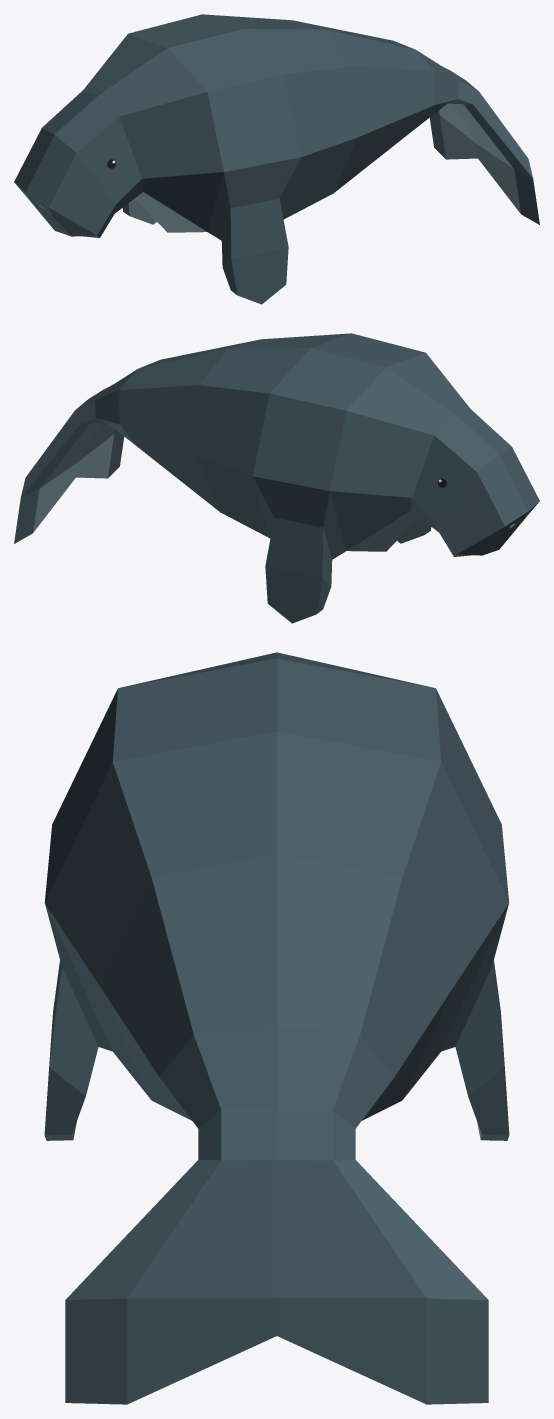
The model's file is manatee.obj.
3 renders of one model, top to bottom at view 1: azimuth 30°, elevation 25°; view 2: azimuth 150°, elevation 25°; view 3: azimuth 270°, elevation 25°, orthographic. The views are drawn at different scales.
Visible parts, largest first — view 1: Manatee_Circle.002_Manatee_Circle.002_455A64, Manatee_Circle.002_Manatee_Circle.002_78909C; view 2: Manatee_Circle.002_Manatee_Circle.002_455A64, Manatee_Circle.002_Manatee_Circle.002_78909C; view 3: Manatee_Circle.002_Manatee_Circle.002_455A64.
Boxes of the visible parts, x1,y1,x2,y2 form: Manatee_Circle.002_Manatee_Circle.002_455A64: (14,14,539,304); Manatee_Circle.002_Manatee_Circle.002_78909C: (128,103,520,232); Manatee_Circle.002_Manatee_Circle.002_455A64: (14,333,539,623); Manatee_Circle.002_Manatee_Circle.002_78909C: (33,422,425,551); Manatee_Circle.002_Manatee_Circle.002_455A64: (44,652,509,1404).
Size of the model in its own units: 20.23 by 9.16 by 8.62.
